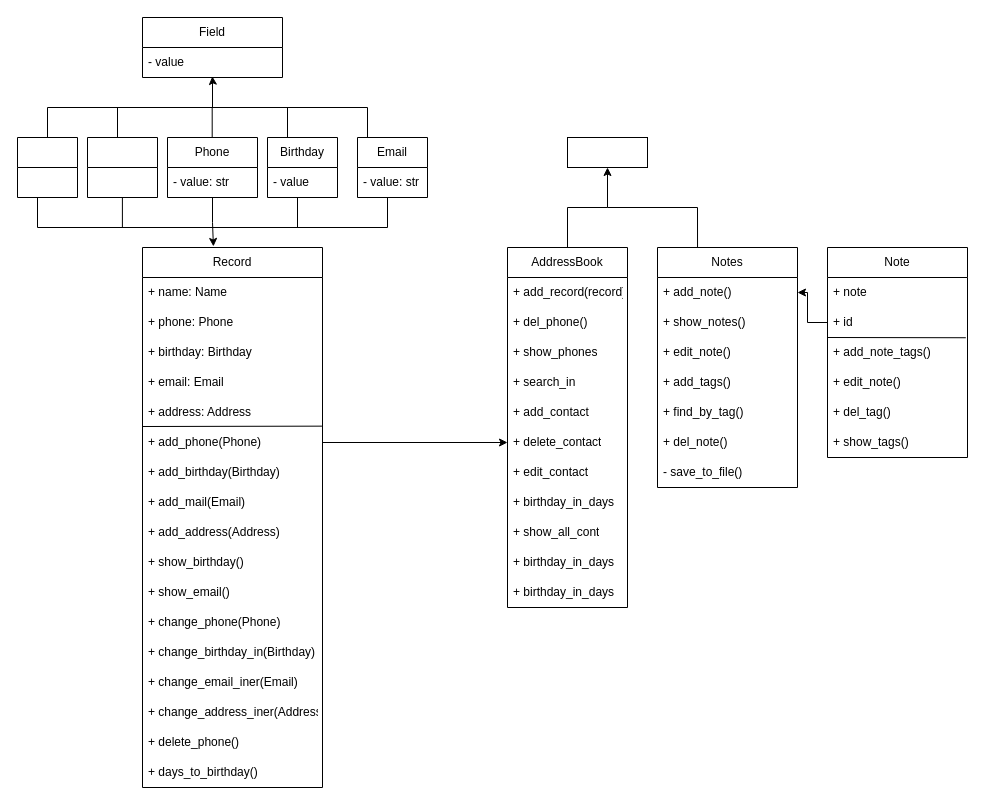
The diagram is 985 pixels wide and 805 high, and some of its shapes have lost their labels. Here are the shapes that lost their labels. From the top down, the centre of each, then its label:
At point (47, 167): "Name".
At point (122, 167): "Address".
At point (607, 152): "UserDict".
